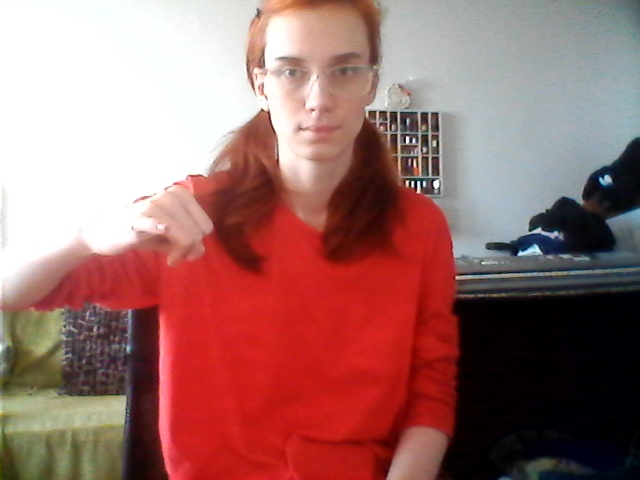j: (107, 163, 240, 286)
